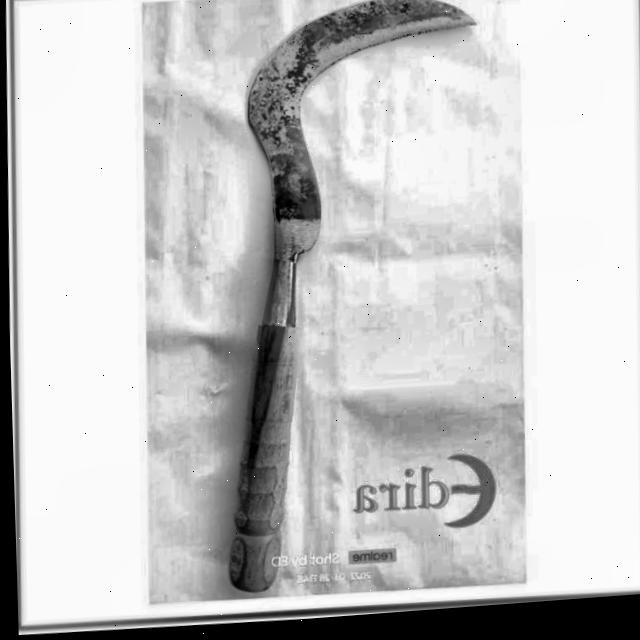celurit: (218, 0, 484, 600)
